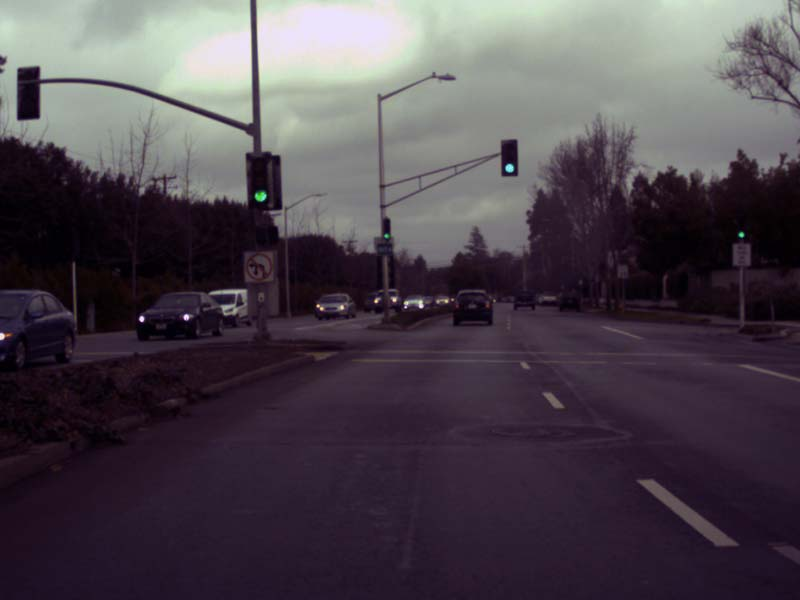Green: (251, 158, 268, 202), (500, 139, 517, 176), (382, 217, 391, 239), (737, 215, 745, 239)
